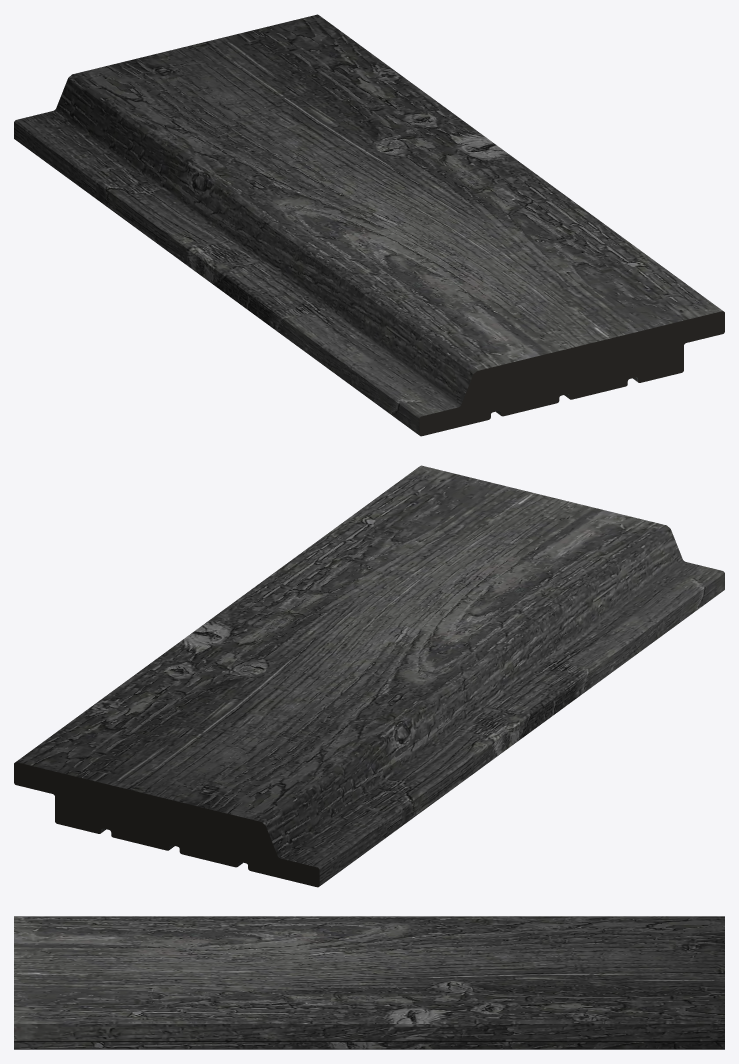
Rendered from larch-facade-half-tenon-carbon-light.glb.
3 renders of one model, top to bottom at view 1: azimuth 30°, elevation 25°; view 2: azimuth 150°, elevation 25°; view 3: azimuth 270°, elevation 25°, orthographic. The views are drawn at different scales.
Parts seen in each view (by area): view 1: Pusė_Špunto; view 2: Pusė_Špunto; view 3: Pusė_Špunto.
Boxes of the visible parts, x1,y1,x2,y2 form: Pusė_Špunto: (14, 14, 724, 436); Pusė_Špunto: (14, 465, 724, 887); Pusė_Špunto: (14, 916, 724, 1049).
Bounding box in the file's own units: 0.0723 × 0.0117 × 0.166.
3 materials, 1 textured.
